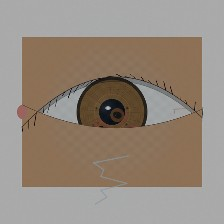foreign_body_visible: (112, 118, 153, 150)
